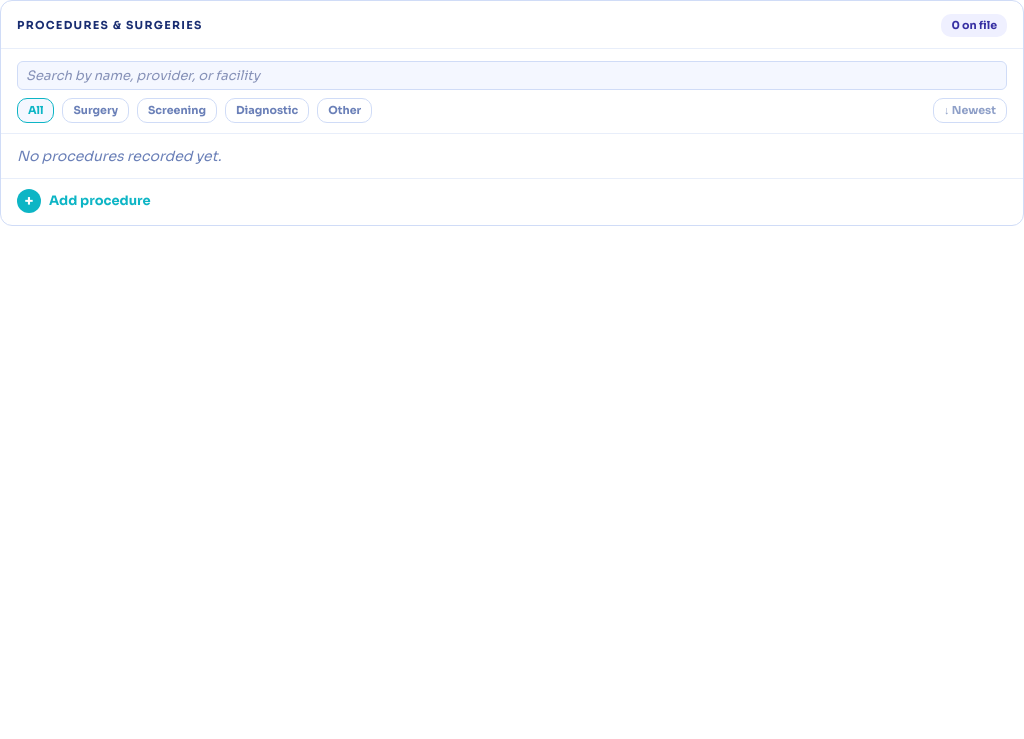
Scenario: ProcedureList — add form › cancelling the add form closes it without saving
The image size is (1024, 739).
Click the button "+ Add procedure": click(100, 200) [1,178,1023,224]
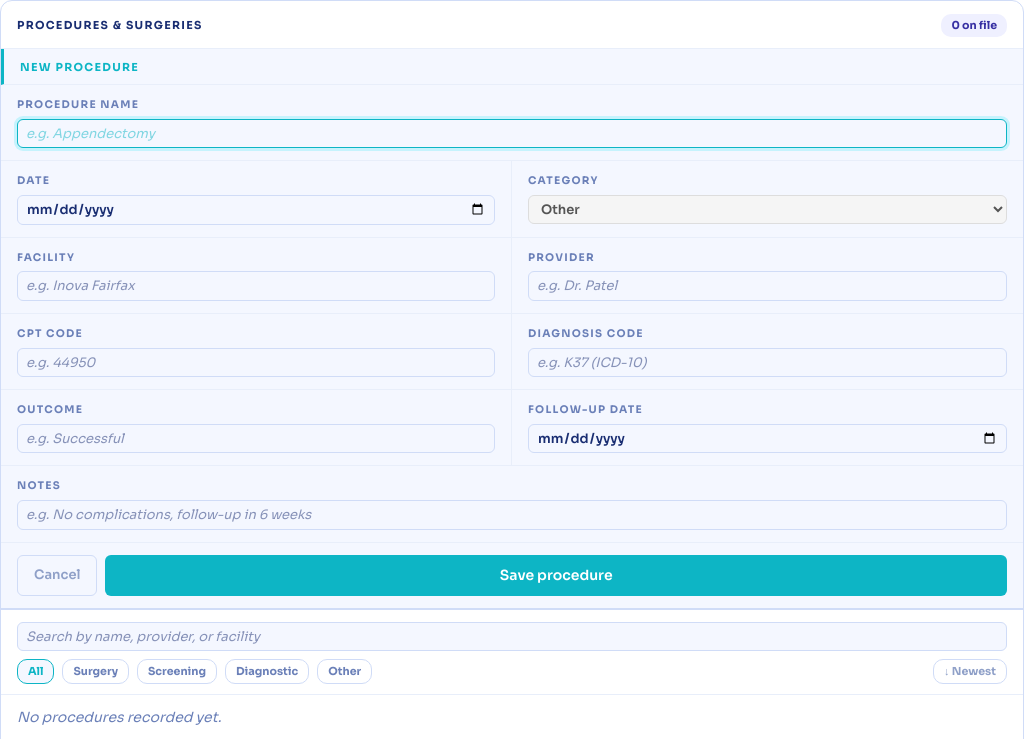
In the field labelled "Procedure Name": (512, 134) [17,119,1007,148], type "MRI Scan"
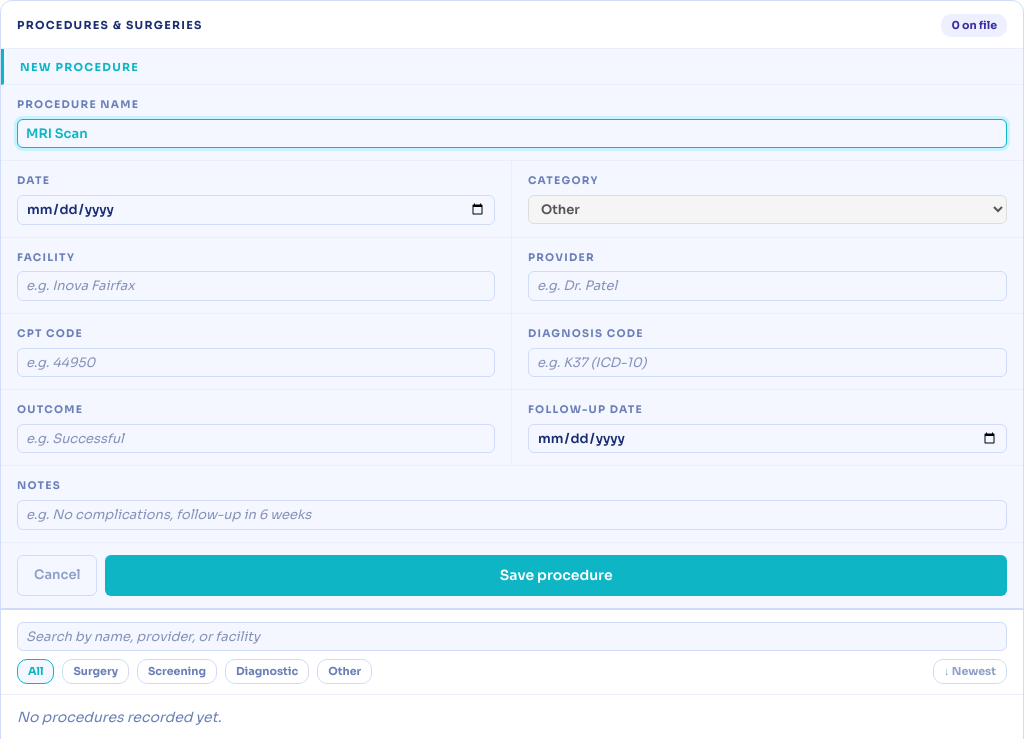
Click the button "Cancel": click(57, 575) [17,554,97,596]
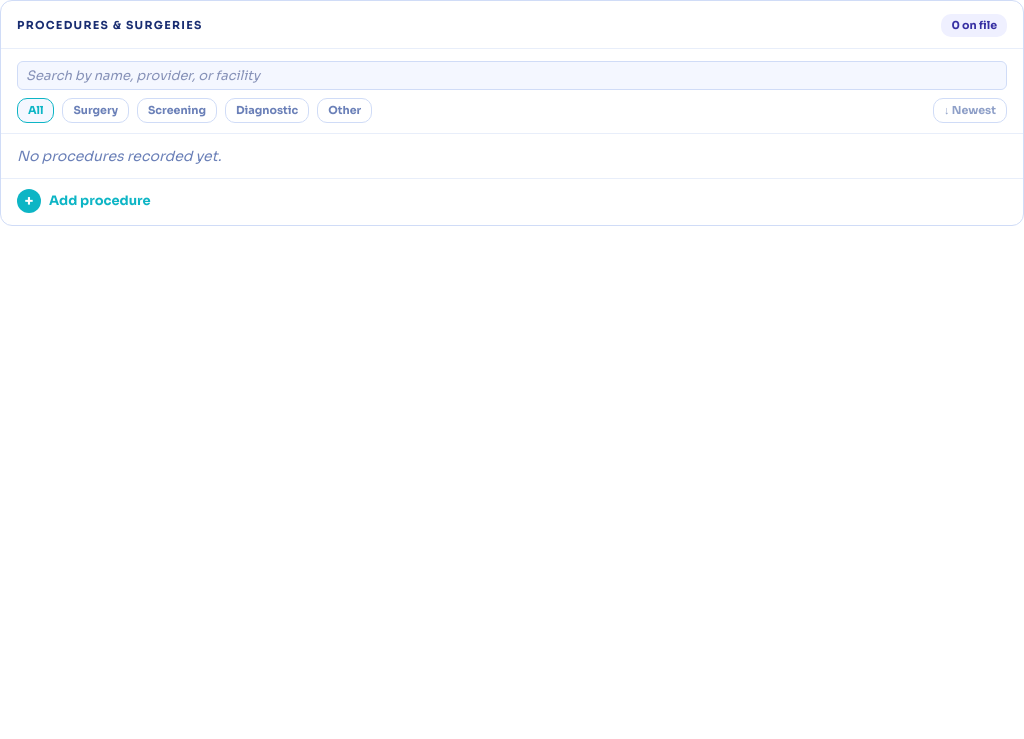
Check: the text "New Procedure" is gone
